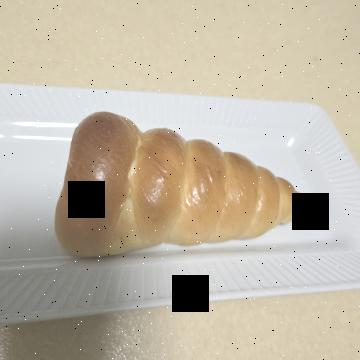cream horn: (83, 29, 274, 311)
